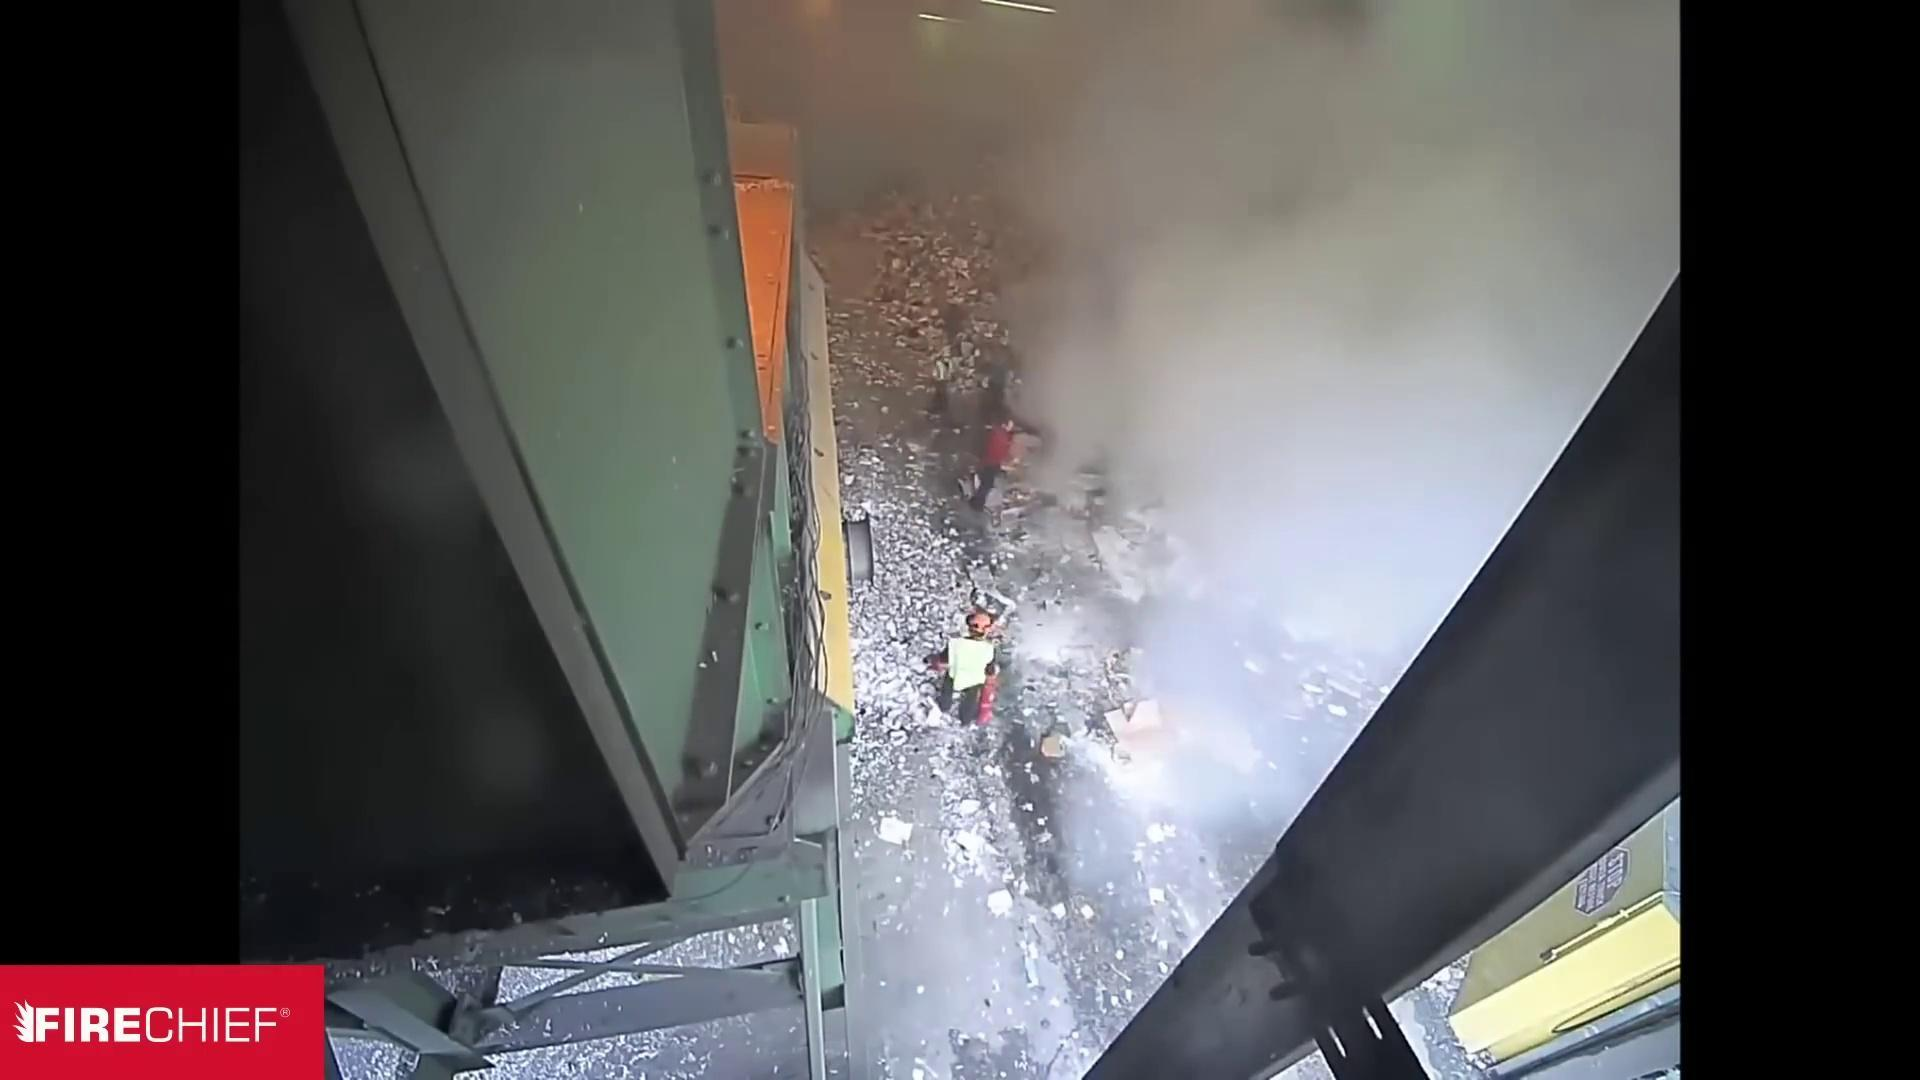smoke: (992, 286, 1429, 806)
